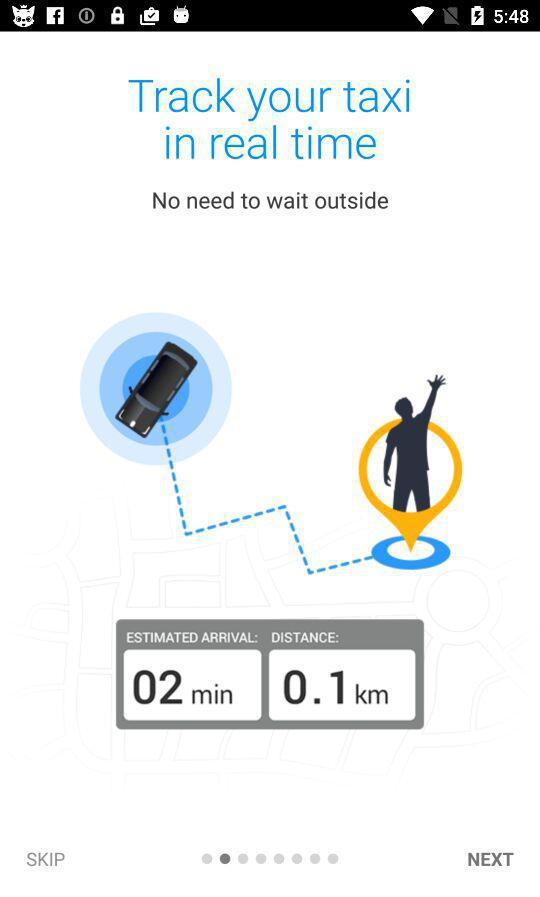Image: (79, 312, 464, 577), (116, 618, 426, 731)
PageIndicator: (201, 852, 340, 866)
Text: (128, 78, 411, 161), (152, 191, 390, 212), (467, 851, 515, 867), (27, 852, 67, 868)
UpperTaskBar: (1, 1, 540, 33)
